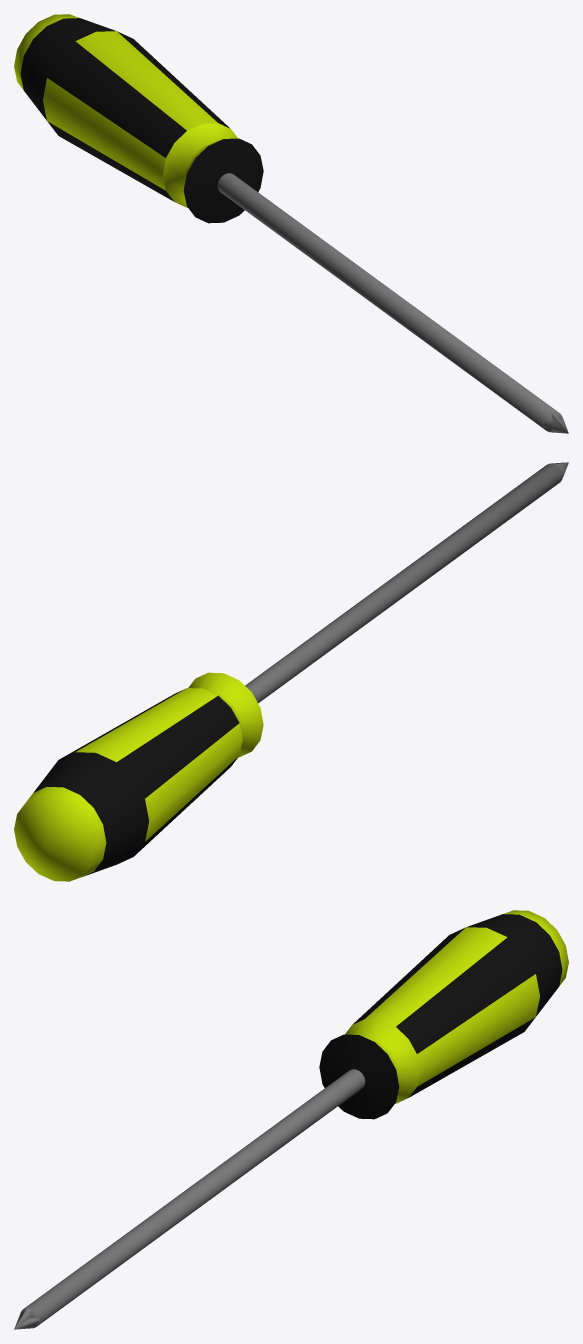
Rendered from Screwdrivers.FBX.
3 views of the same model, one above another, from view 1: azimuth 30°, elevation 25°; view 2: azimuth 150°, elevation 25°; view 3: azimuth 330°, elevation 25° (orthographic).
Parts seen in each view (by area): view 1: Loft001; view 2: Loft001; view 3: Loft001.
Boxes of the visible parts, bbox=[...] form: Loft001: bbox=[14, 14, 568, 433]; Loft001: bbox=[14, 462, 568, 881]; Loft001: bbox=[14, 910, 568, 1329].
Size of the model in its own units: 2.09 by 2.09 by 17.84.
